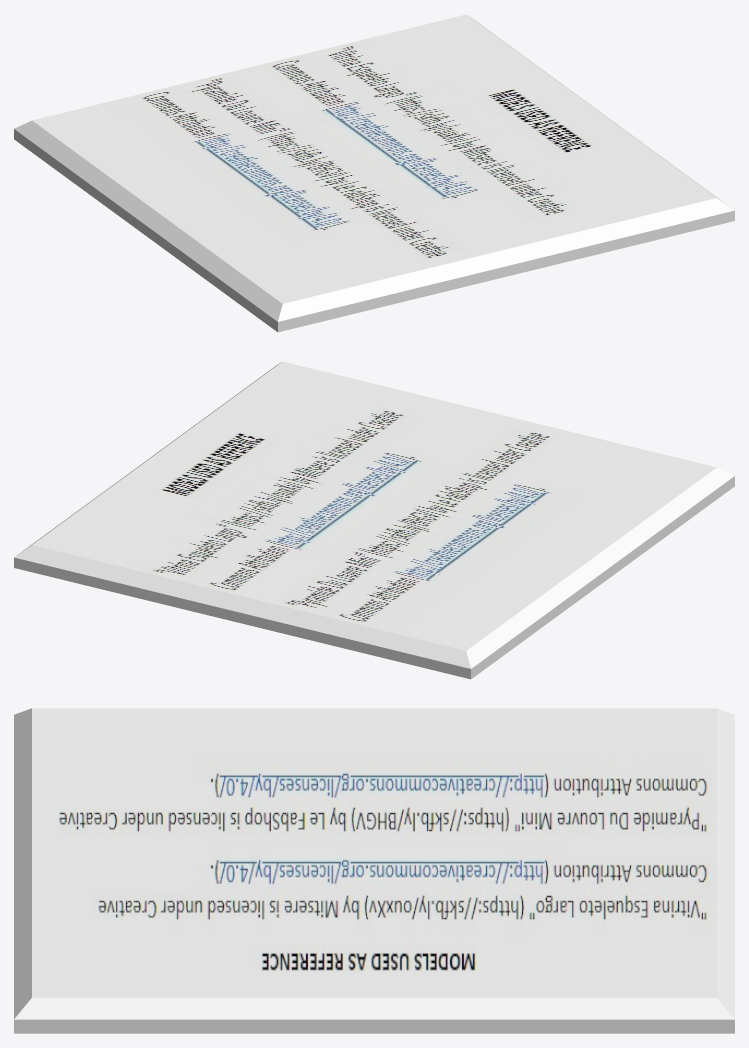
The model's file is CreditsPlaqueV2C4.fbx.
3 views of the same model, one above another, from view 1: azimuth 30°, elevation 25°; view 2: azimuth 150°, elevation 25°; view 3: azimuth 270°, elevation 25° (orthographic). The views are drawn at different scales.
Visible parts, largest first — view 1: Plaque; view 2: Plaque; view 3: Plaque.
Part boxes in pixels (x1,y1,x2,y2): Plaque: (14, 14, 734, 332); Plaque: (14, 361, 734, 679); Plaque: (14, 708, 734, 1033).
Size of the model in its own units: 400 by 17.5 by 400.
